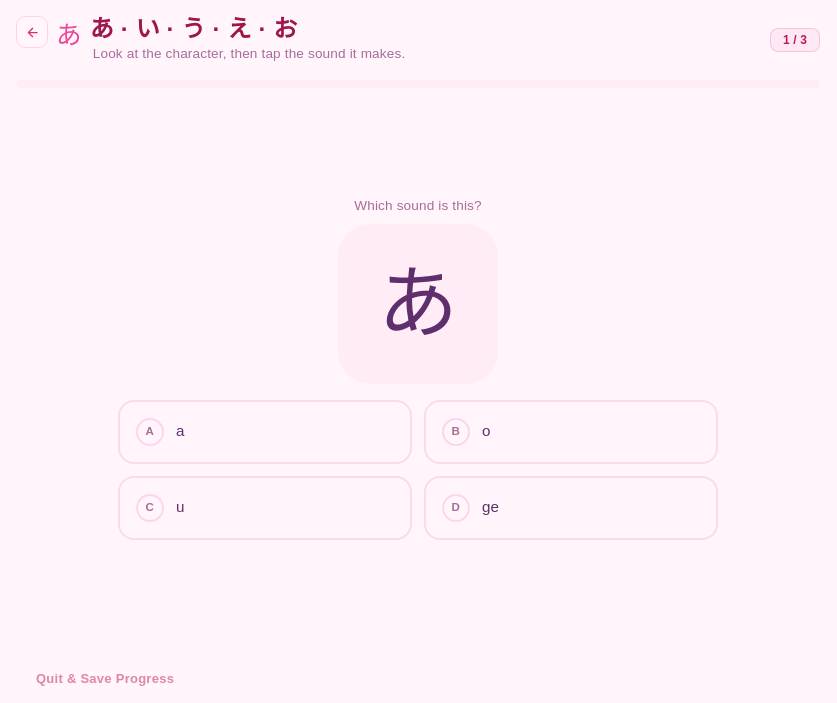
Test case: KanaSession › should move on to the recall drill without closing the session
This screenshot has width=837, height=703.
Click the button "A a".
click(150, 432)  # box [118, 400, 412, 464]
Wait 1100 ms
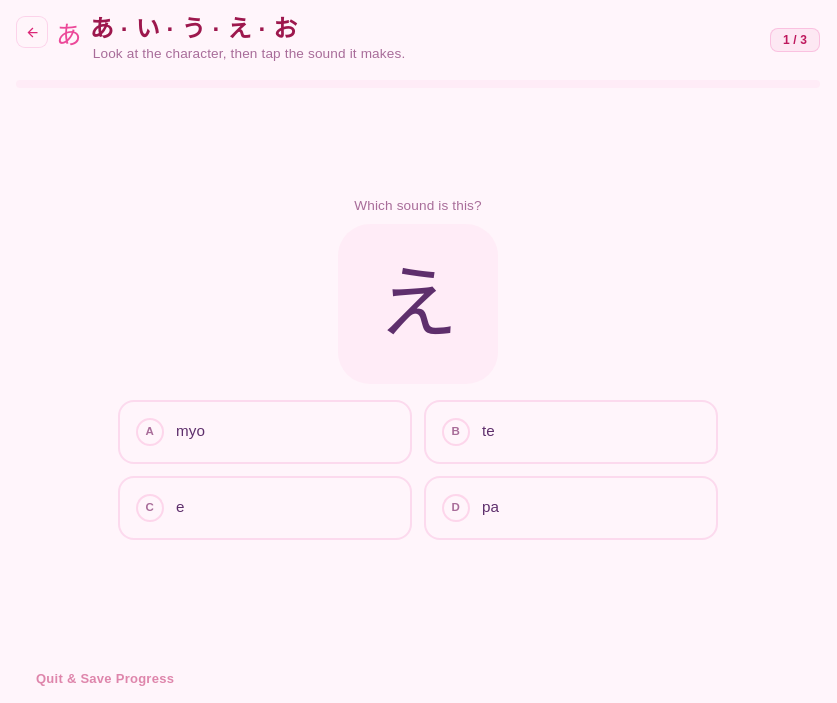
Click the button "C e".
click(150, 508)  # box [118, 476, 412, 540]
Wait 1100 ms
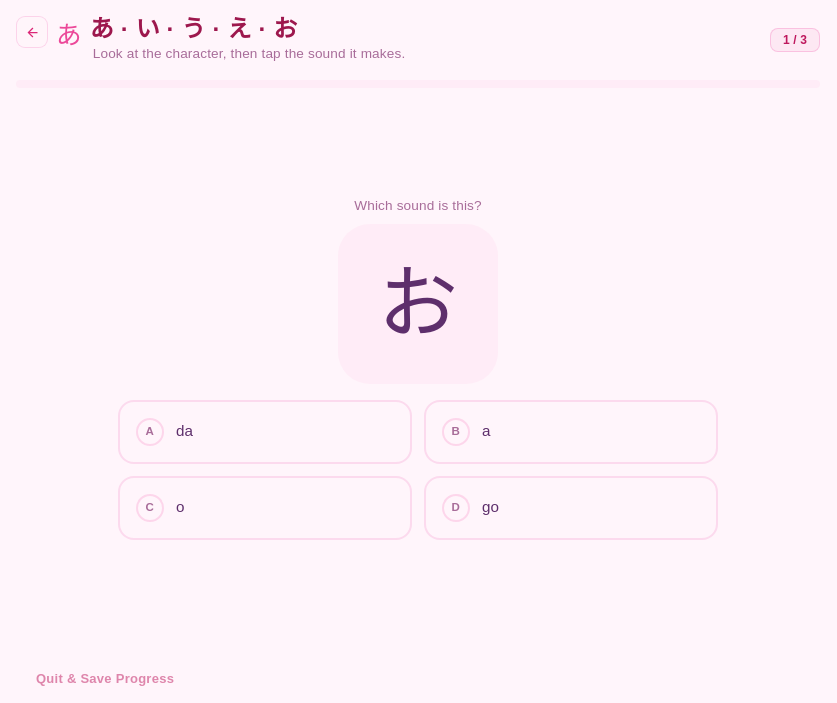
Click the button "C o".
click(150, 508)  # box [118, 476, 412, 540]
Wait 1100 ms
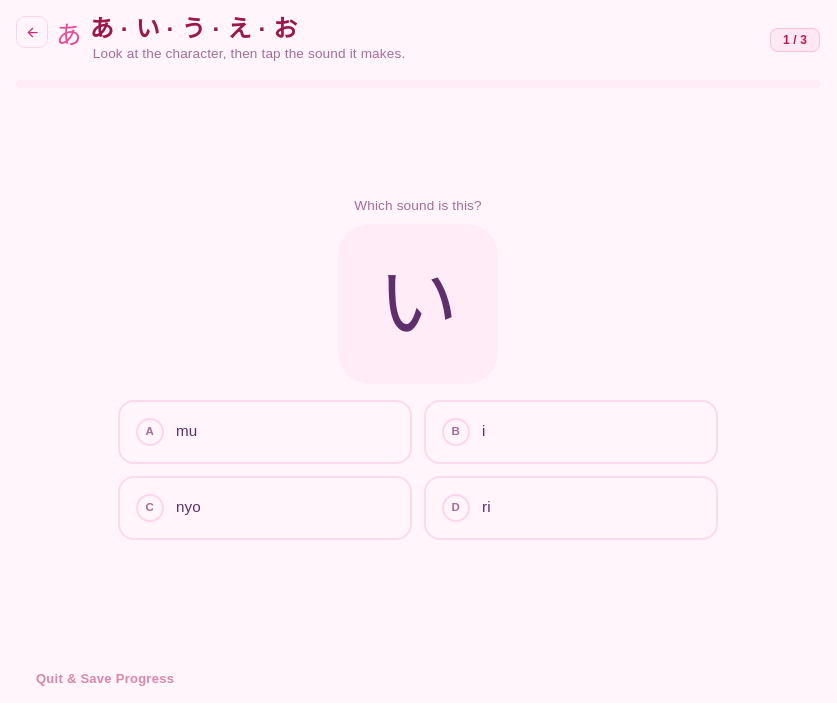
Click the button "B i".
click(456, 432)  # box [424, 400, 718, 464]
Wait 1100 ms
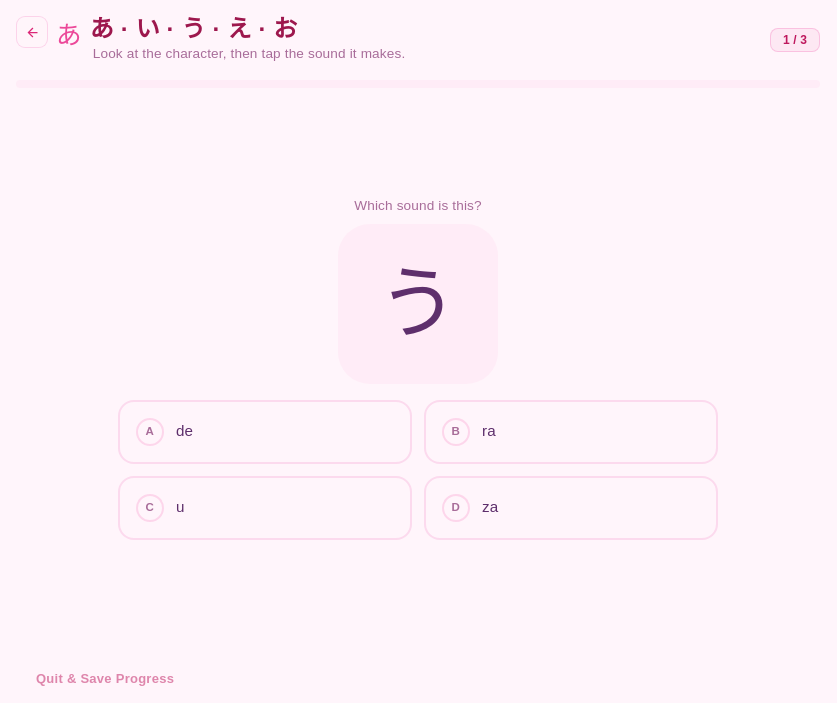
Click the button "C u".
click(150, 508)  # box [118, 476, 412, 540]
Wait 1100 ms
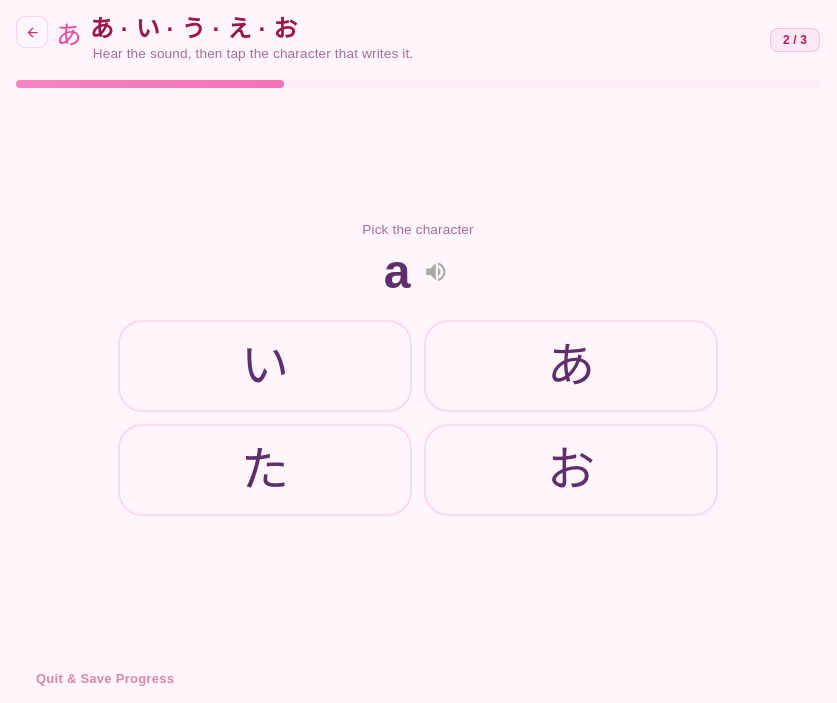
Now the text "Hear the sound, then tap the character that writes it." is shown, box [93, 44, 413, 64]
